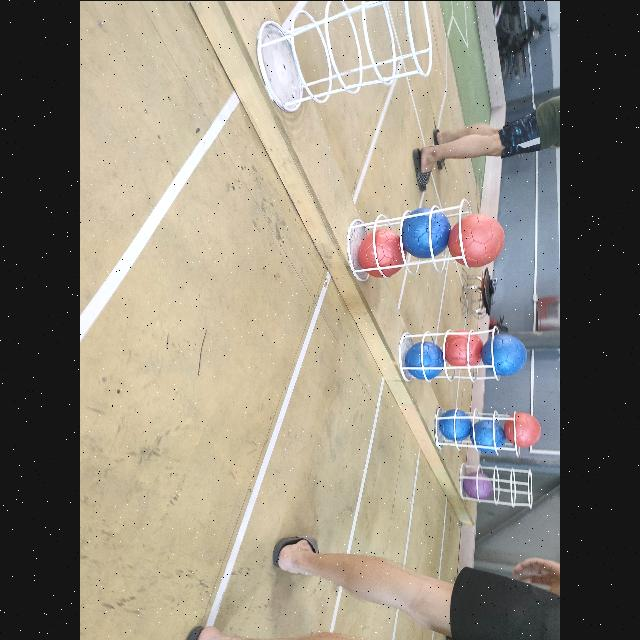B: (404, 207, 451, 257), (483, 334, 527, 374), (403, 342, 445, 380), (472, 419, 506, 453), (438, 410, 472, 440)
R: (450, 212, 506, 266), (358, 229, 406, 277), (444, 330, 484, 368), (505, 412, 541, 446)
